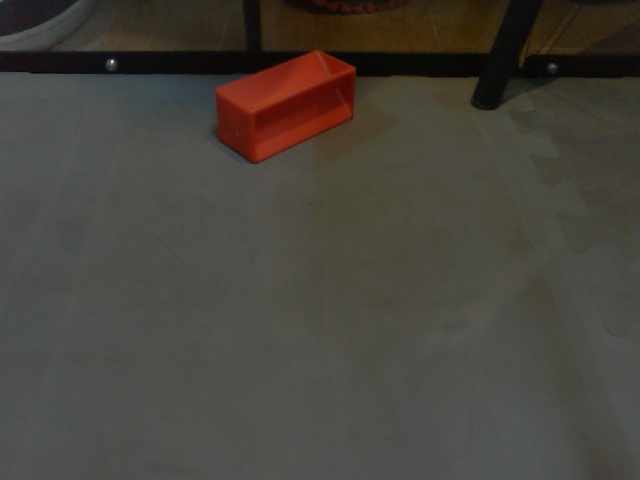RedSample: (212, 48, 357, 166)
